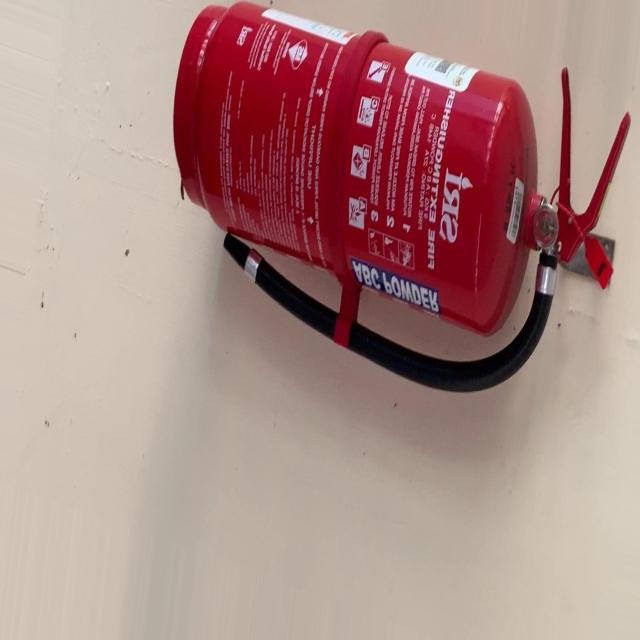fire_extinguisher: (167, 0, 640, 403)
